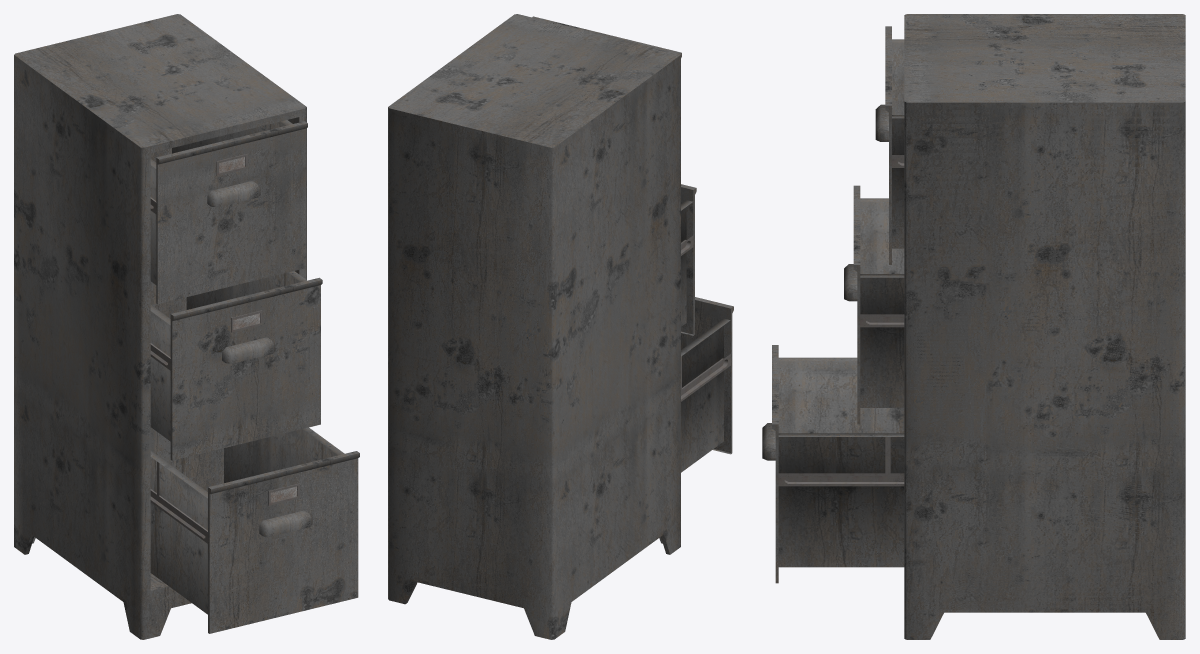
Rendered from gavetas.dae.
3 views of the same model, side by side, from view 1: azimuth 30°, elevation 25°; view 2: azimuth 150°, elevation 25°; view 3: azimuth 270°, elevation 25° (orthographic). The views are drawn at different scales.
Visible parts, largest first — view 1: group_0, group_1 (×3), group_2 (×2), group_3 (×2); view 2: group_0, group_1 (×2), group_2; view 3: group_0, group_1 (×3), group_2, group_3.
Part boxes in pixels (x1=…): group_0: x1=14, y1=14, x2=306, y2=639; group_1 (×3): x1=150, y1=427, x2=359, y2=633; group_2 (×2): x1=150, y1=271, x2=322, y2=460; group_3 (×2): x1=150, y1=120, x2=307, y2=304; group_0: x1=388, y1=14, x2=680, y2=639; group_1 (×2): x1=681, y1=297, x2=733, y2=472; group_2: x1=681, y1=184, x2=696, y2=335; group_0: x1=904, y1=14, x2=1185, y2=639; group_1 (×3): x1=772, y1=345, x2=904, y2=583; group_2: x1=853, y1=185, x2=904, y2=424; group_3: x1=885, y1=26, x2=904, y2=264.
Size of the model in its own units: 16.36 by 33.02 by 46.26.
